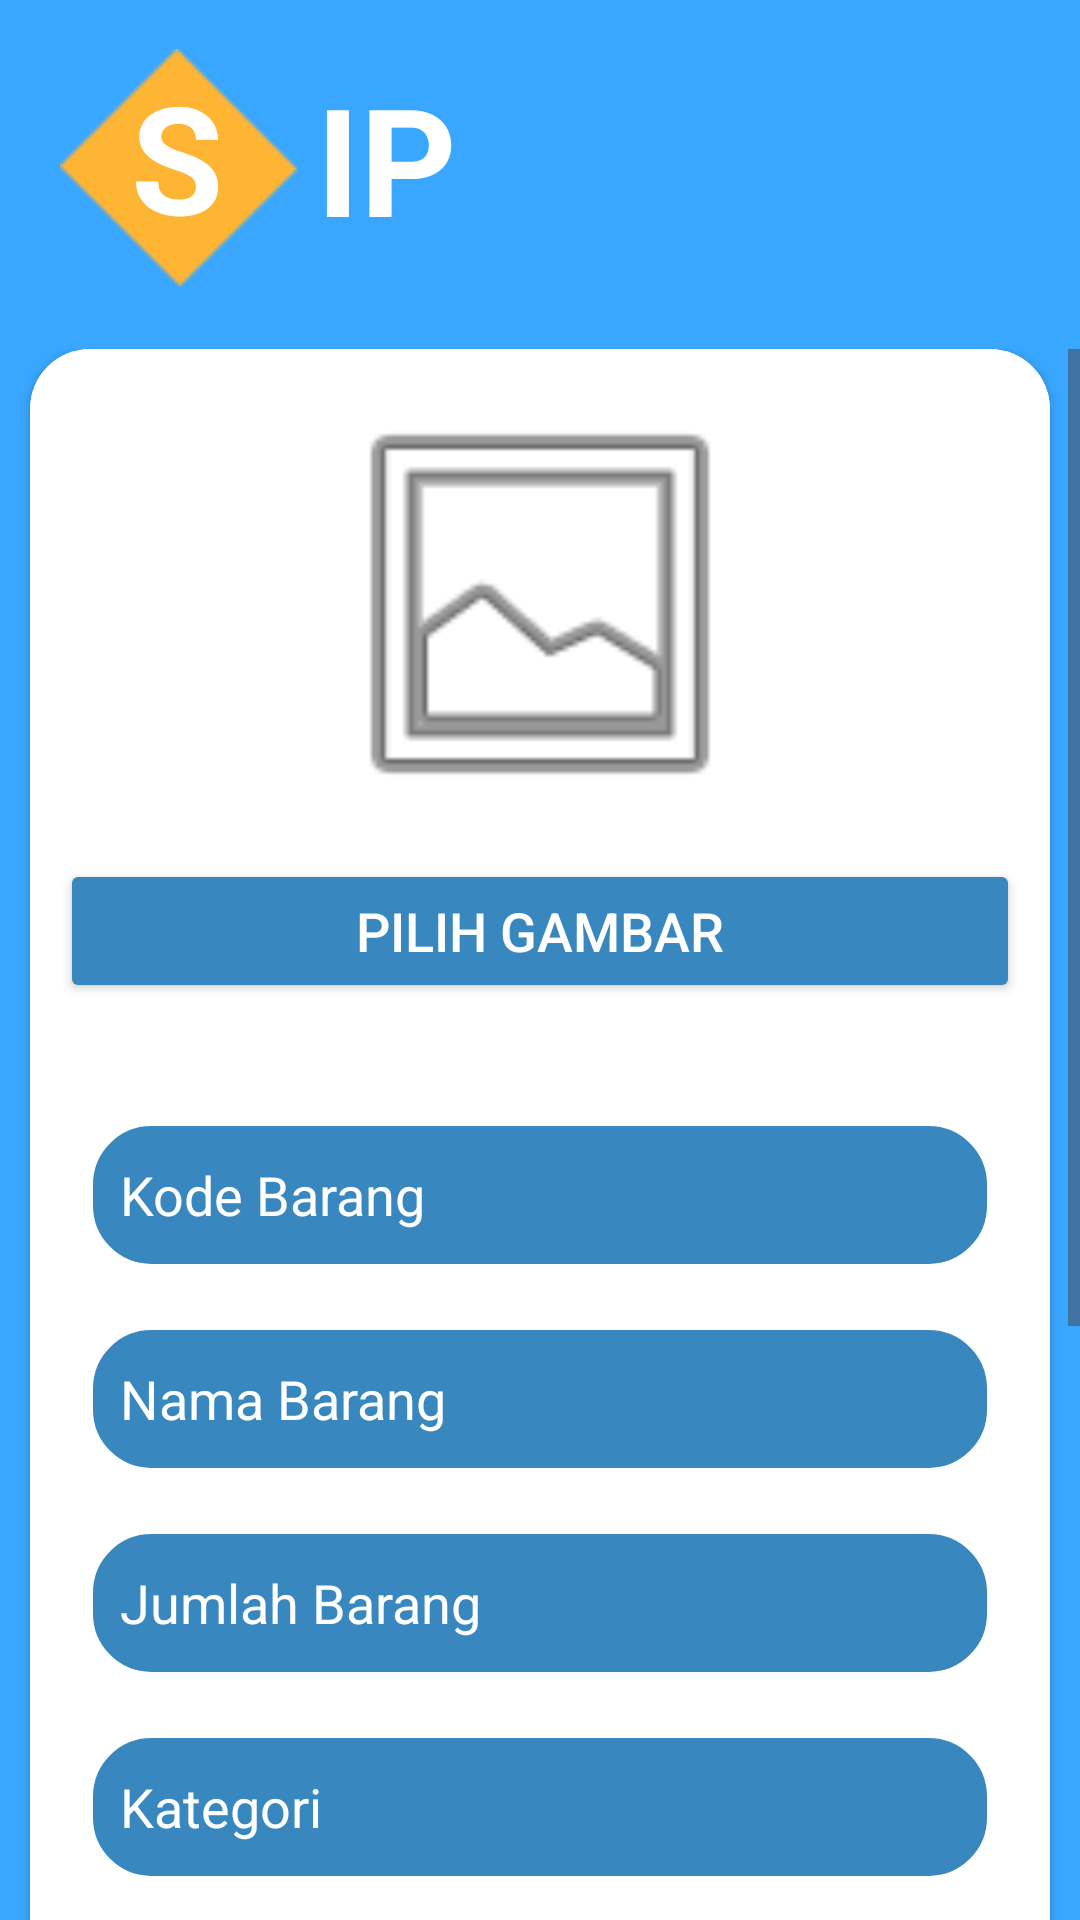

Icon bounding boxes for this 1080 × 1920 phone screenshot, format [x1=x1, y1=y1, x2=x2, y2=y2]:
gallery: [x1=370, y1=434, x2=710, y2=774]
